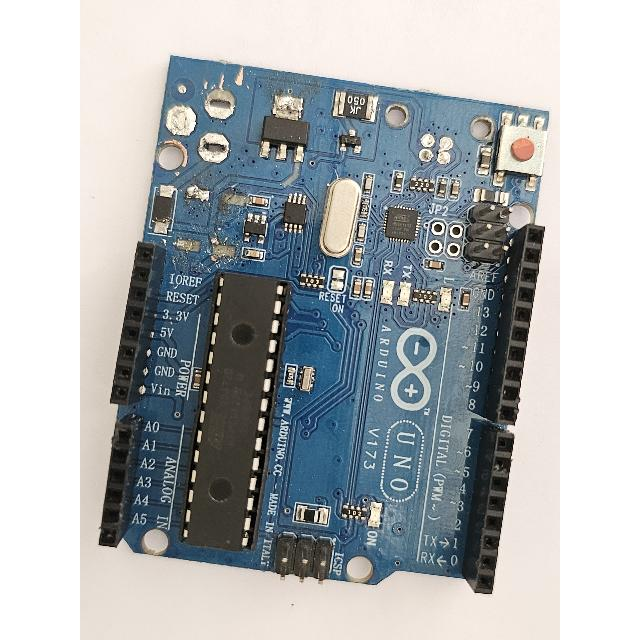missing_capacitors: (169, 180, 251, 267)
missing_eps: (171, 74, 249, 177)
missing_usb: (374, 95, 486, 177)
